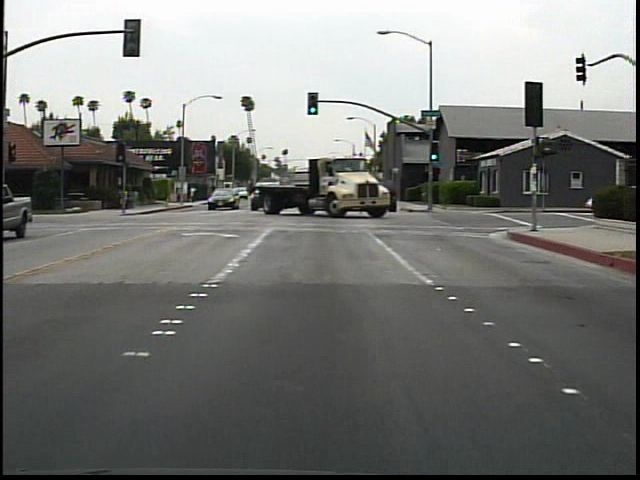person: (189, 182, 201, 206)
